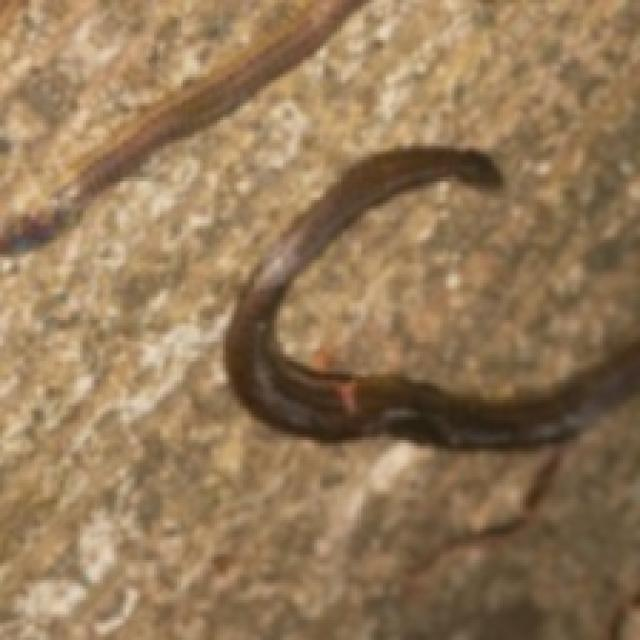gervais worm snake: (226, 146, 637, 446), (0, 0, 360, 249)
